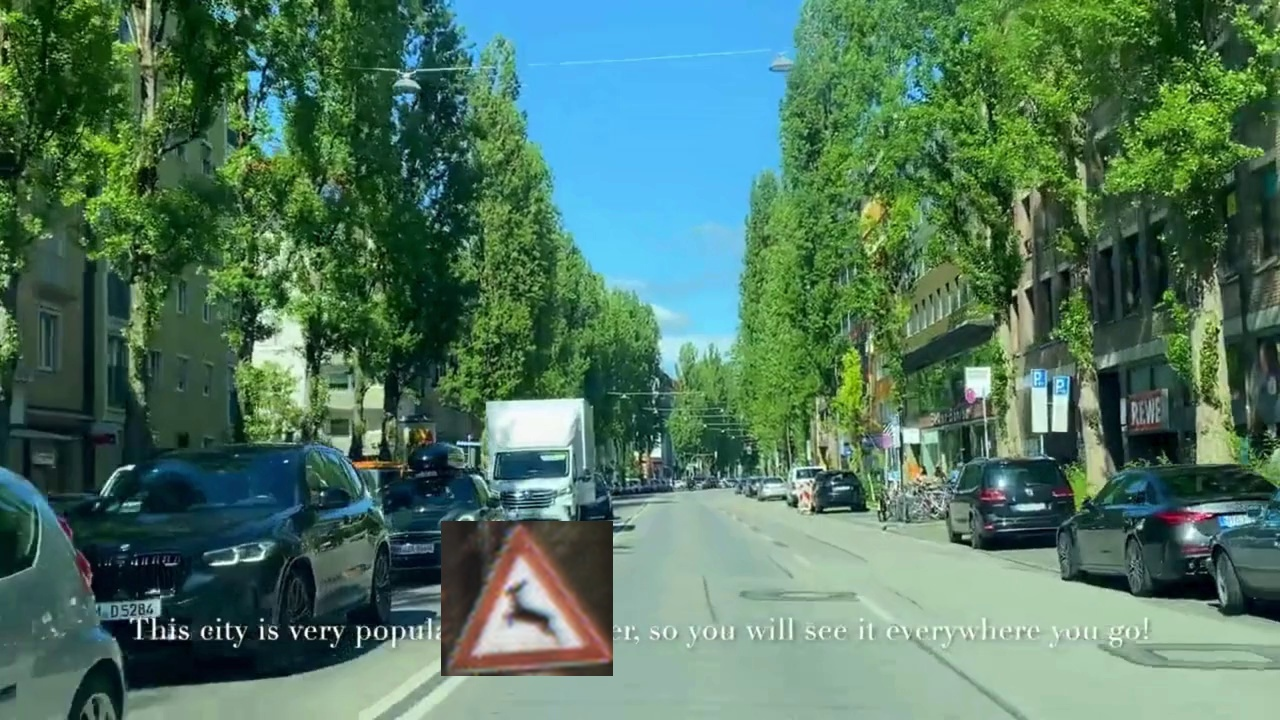Wild animals: (441, 521, 613, 676)
